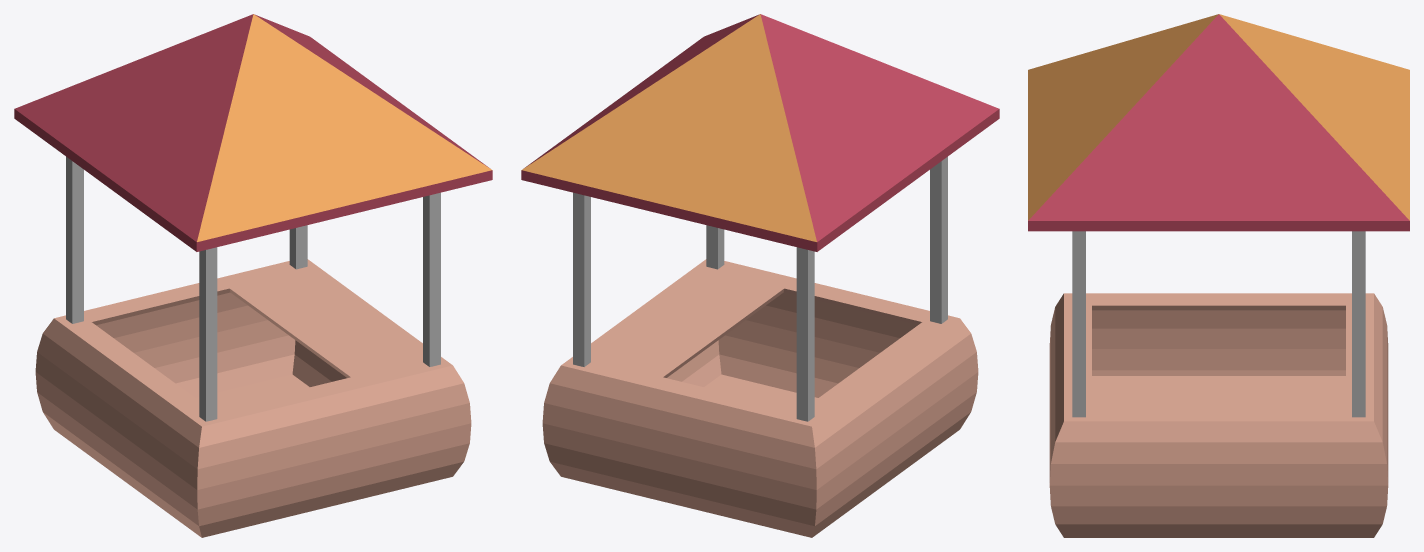
Rendered from koreabooth3.2.fbx.
3 views of the same model, side by side, from view 1: azimuth 30°, elevation 25°; view 2: azimuth 150°, elevation 25°; view 3: azimuth 270°, elevation 25° (orthographic). The views are drawn at different scales.
Parts seen in each view (by area): view 1: Cube, Plane, Cube.003; view 2: Cube, Plane, Cube.003; view 3: Cube, Plane, Cube.003.
Part boxes in pixels (left/top/right/bottom): Cube: left=35, top=259, right=471, bottom=537; Plane: left=14, top=14, right=492, bottom=251; Cube.003: left=66, top=156, right=440, bottom=421; Cube: left=542, top=259, right=978, bottom=537; Plane: left=521, top=14, right=999, bottom=251; Cube.003: left=573, top=156, right=947, bottom=421; Cube: left=1049, top=293, right=1388, bottom=537; Plane: left=1028, top=14, right=1409, bottom=231; Cube.003: left=1072, top=231, right=1365, bottom=417.
Bounding box in the file's own units: 852 × 1209 × 910.
